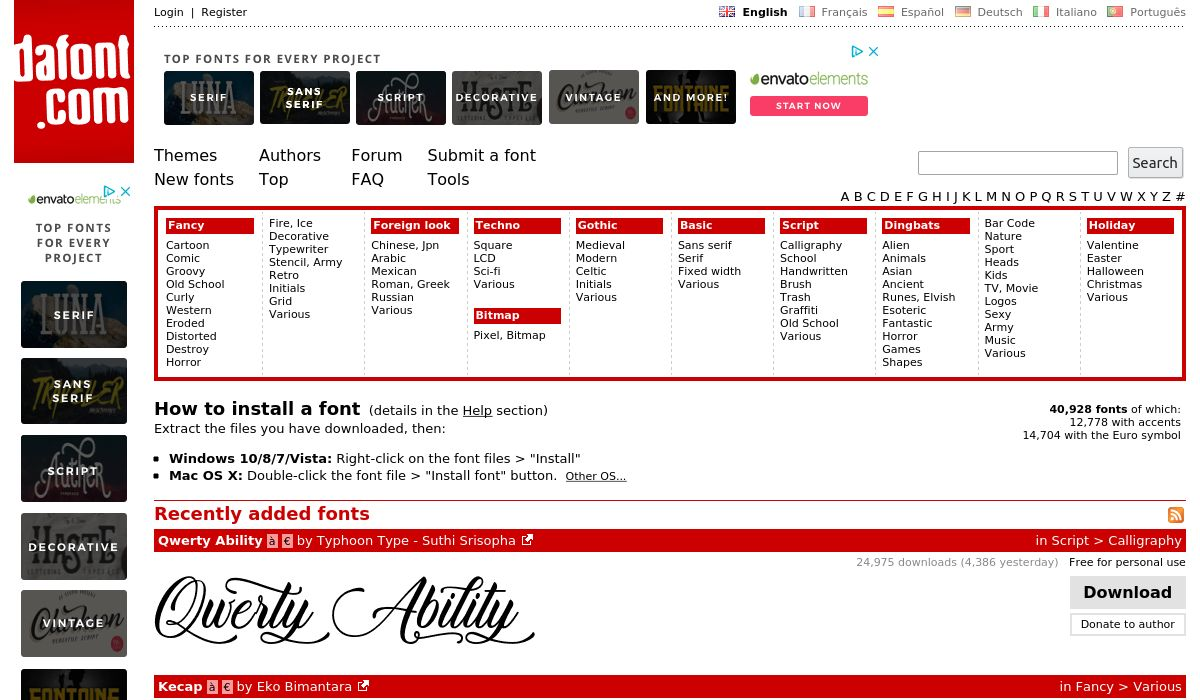menu: (149, 1, 1196, 26)
menu-button: (1106, 4, 1190, 21), (719, 4, 790, 21), (797, 4, 870, 20), (953, 4, 1024, 20), (1031, 4, 1100, 20), (875, 5, 945, 20), (199, 5, 250, 20), (154, 6, 188, 20)
